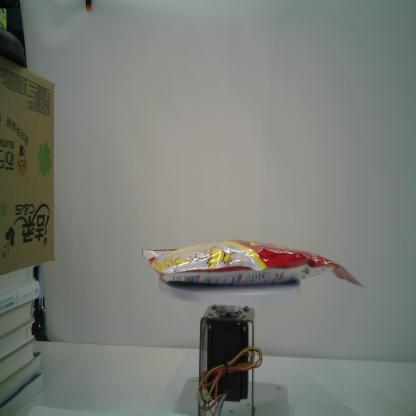Instant Drink: (141, 238, 368, 290)
